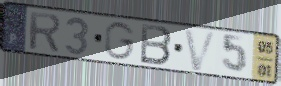3: (63, 15, 91, 57)
5: (221, 33, 250, 78)
B: (139, 22, 174, 68)
G: (104, 20, 137, 61)
R: (28, 10, 63, 54)
V: (182, 27, 220, 73)
